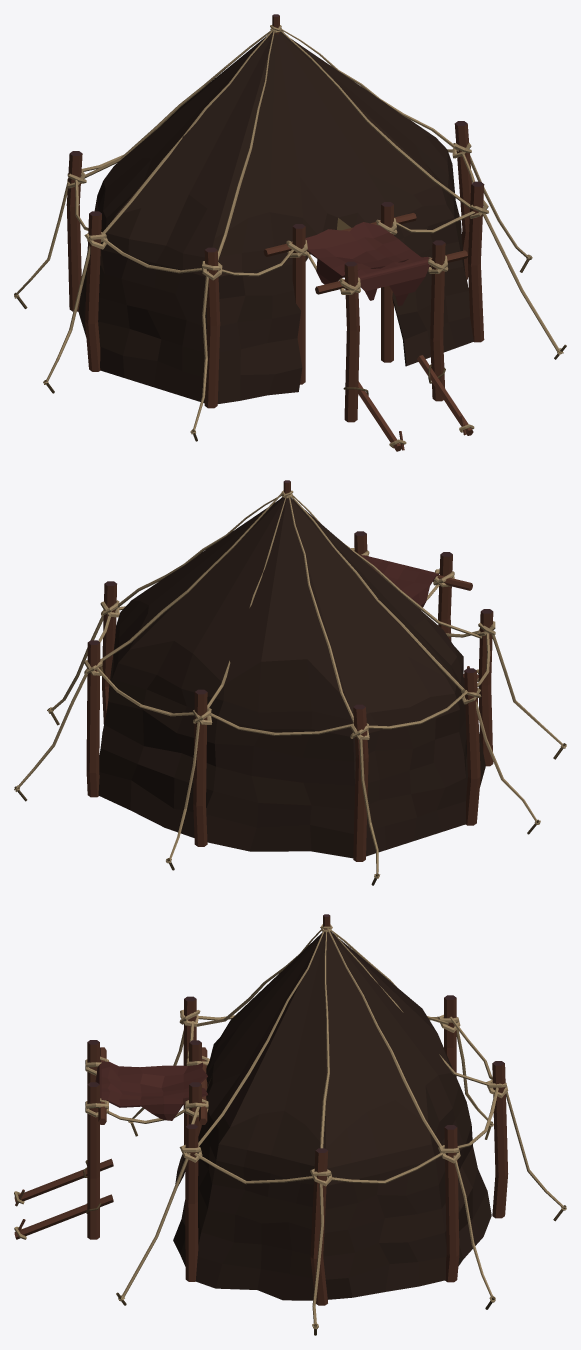
File: Tent_03.gltf
3 renders of one model, top to bottom at view 1: azimuth 30°, elevation 25°; view 2: azimuth 150°, elevation 25°; view 3: azimuth 270°, elevation 25°, orthographic. The views are drawn at different scales.
Parts seen in each view (by area): view 1: large rope.002; view 2: large rope.002; view 3: large rope.002.
Part boxes in pixels (x1,y1,x2,y2): large rope.002: (14,14,566,451); large rope.002: (14,480,566,885); large rope.002: (14,914,566,1335).
Size of the model in its own units: 3.23 by 1.95 by 3.18.
1 material, 1 textured.
